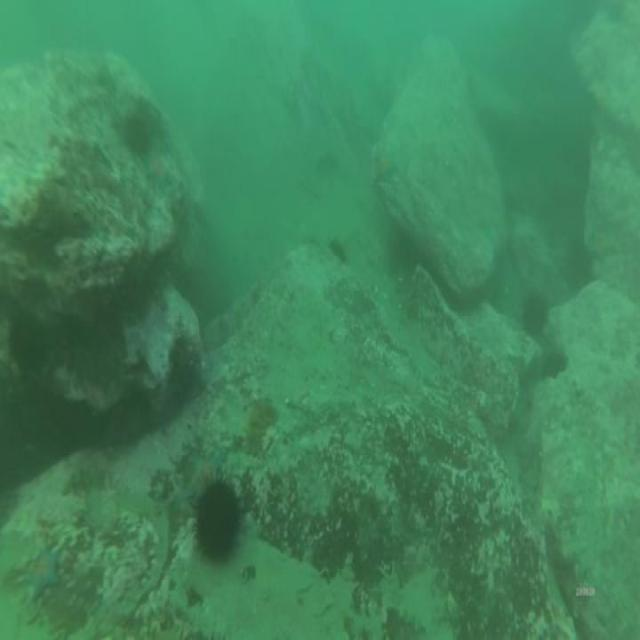echinus: (191, 472, 245, 568), (0, 308, 45, 373), (118, 101, 154, 163), (518, 285, 553, 338)
holothurian: (244, 395, 273, 452)
starfish: (27, 540, 63, 600)
